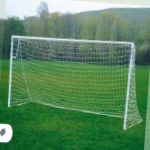goals: (6, 33, 145, 131)
